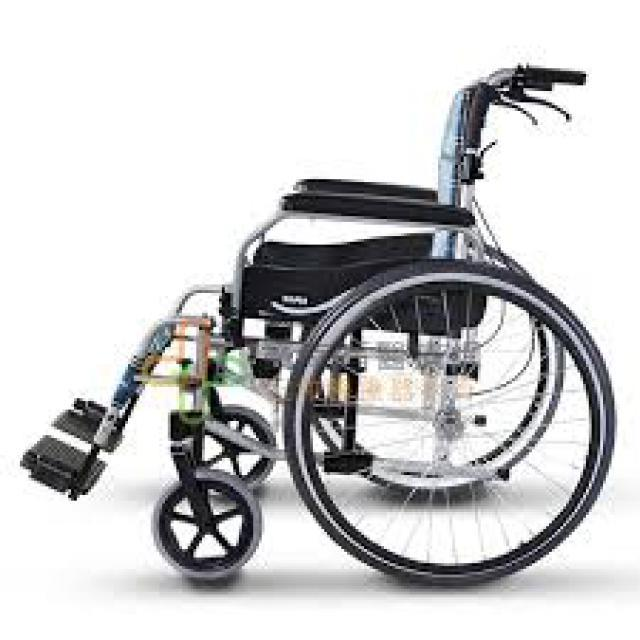wheelchair: (11, 42, 623, 638)
